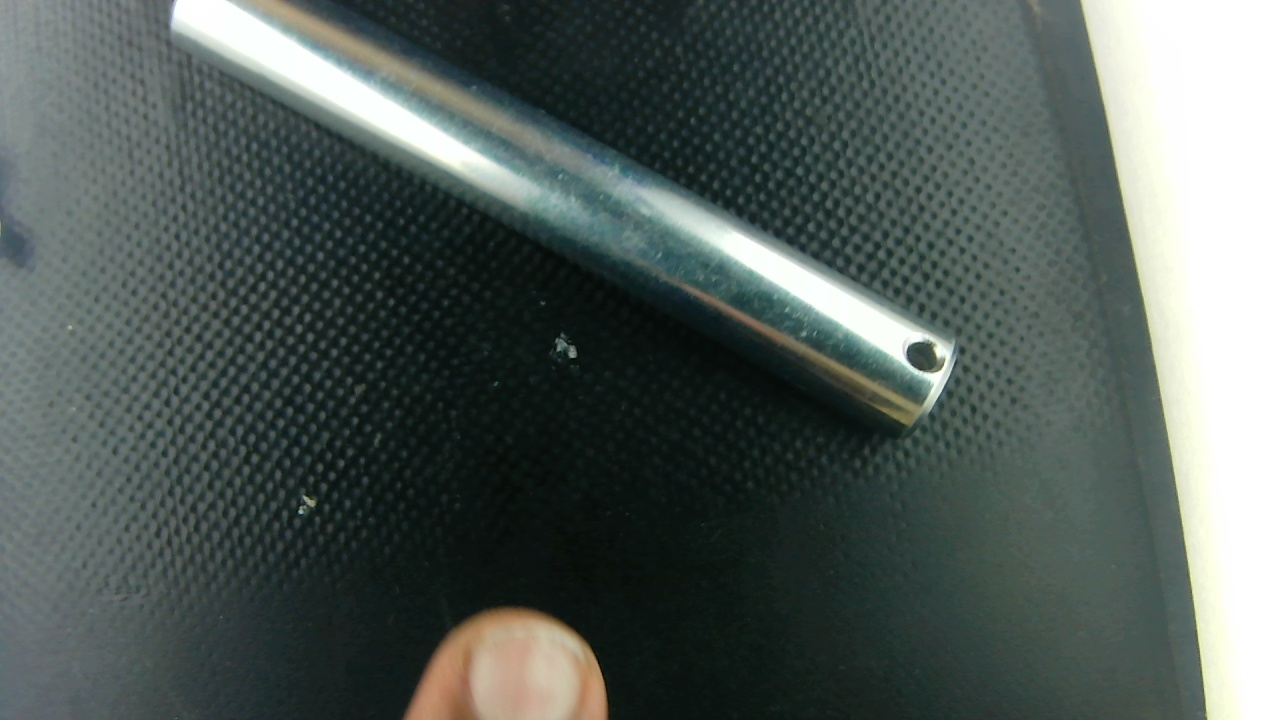Okay_Pin: (170, 0, 953, 431)
